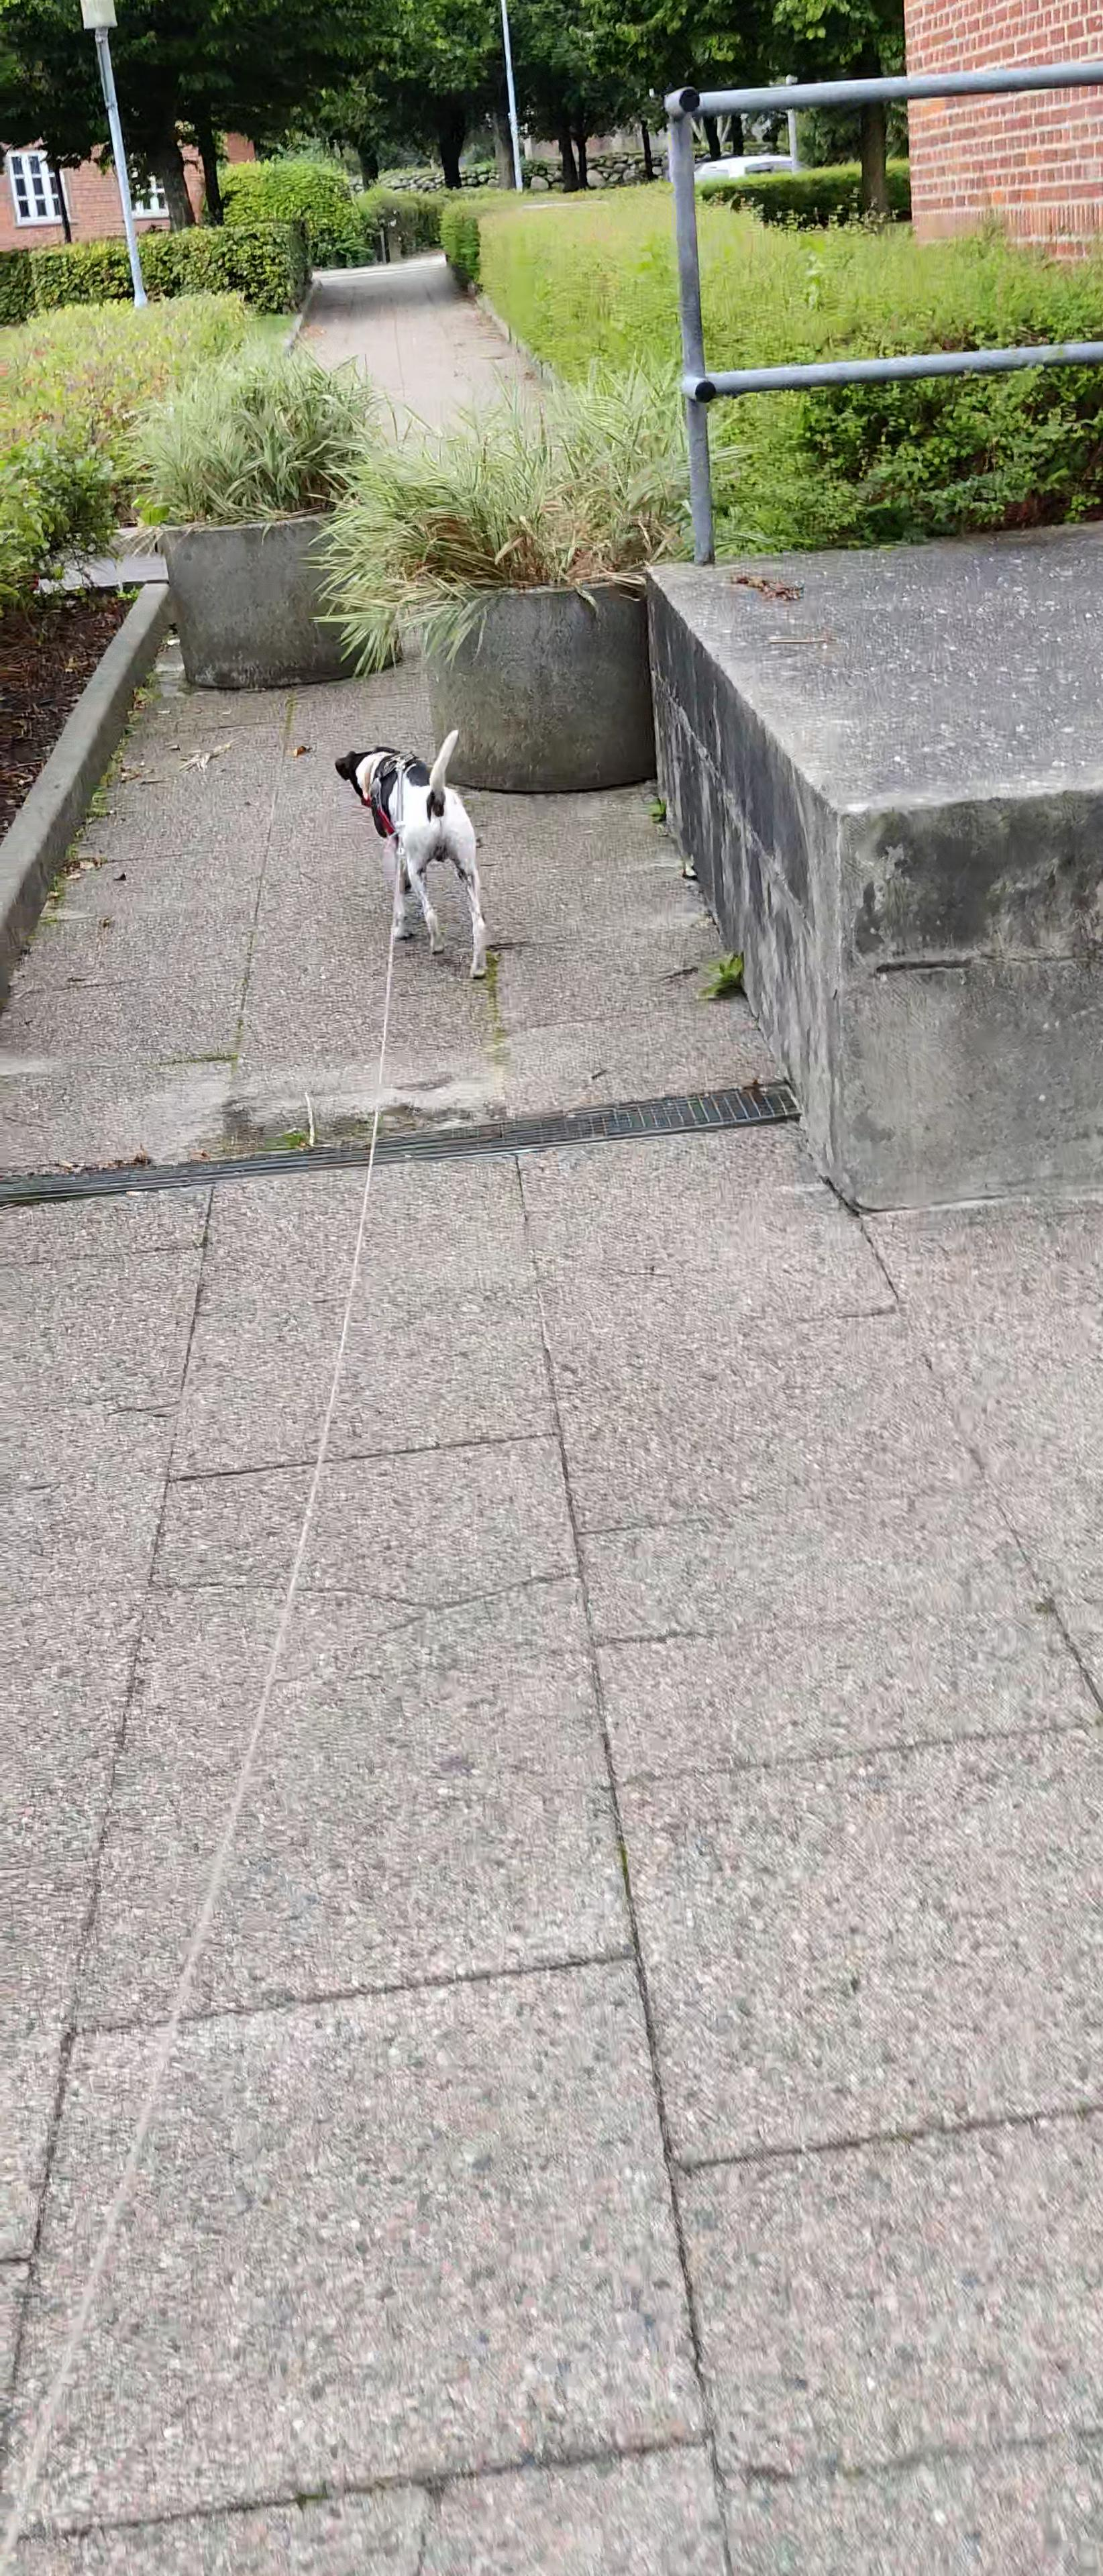Dog: (332, 726, 490, 981)
